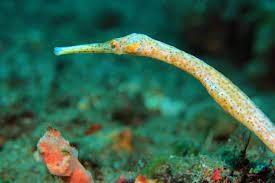Long-Snouted Pipefish: (54, 32, 275, 153)
